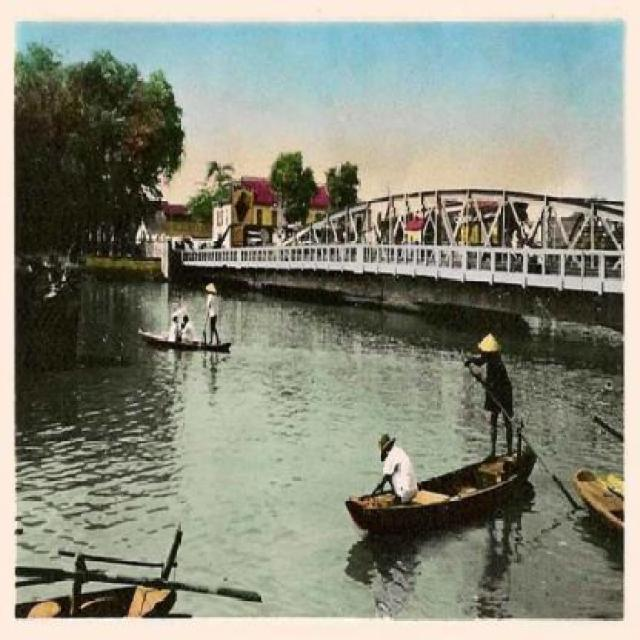Person: (478, 334, 518, 464), (370, 431, 418, 506), (204, 282, 221, 347), (175, 313, 197, 345)
